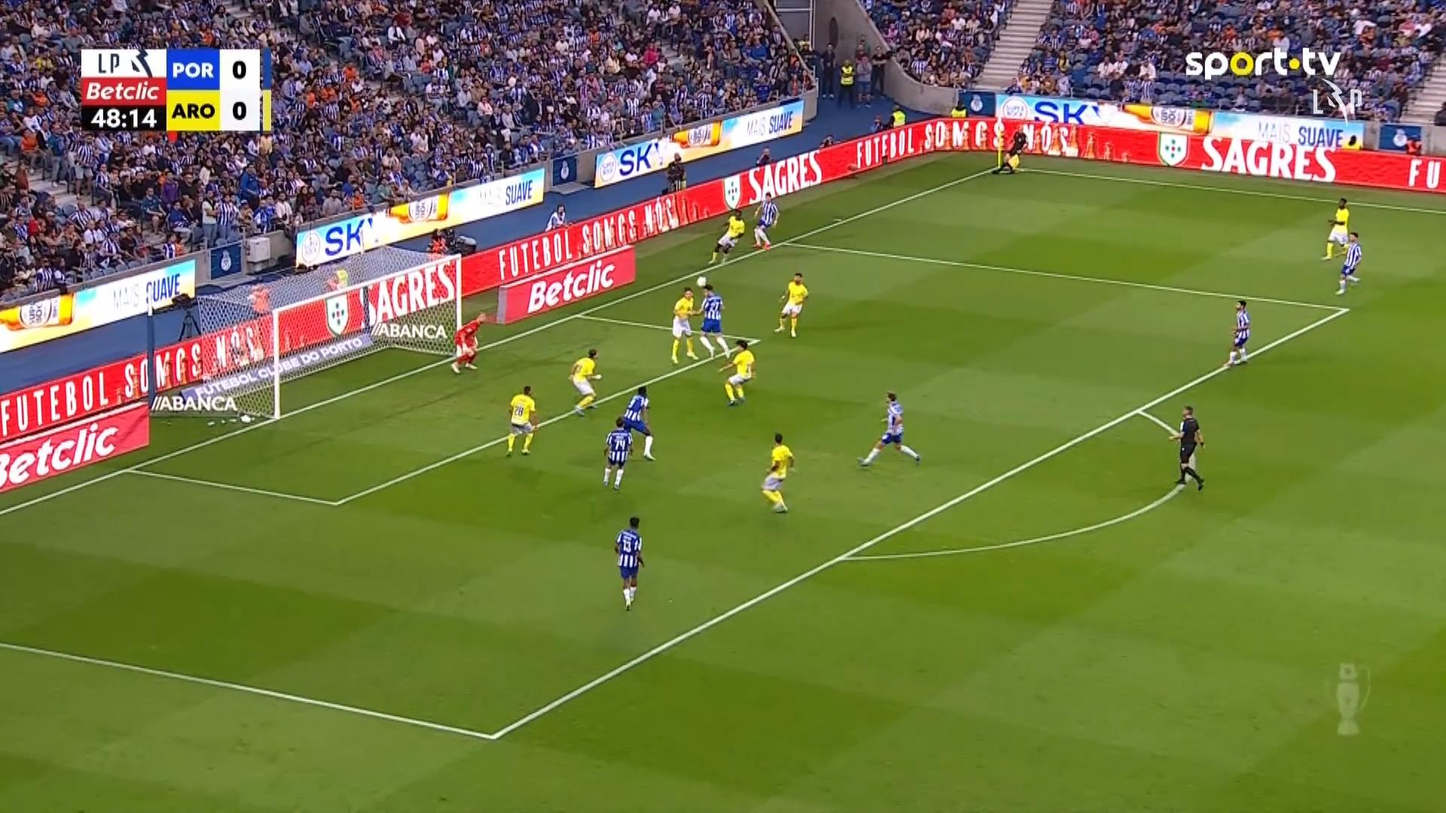ball: (696, 276, 706, 287)
goalkeeper: (450, 311, 485, 374)
player: (856, 391, 921, 467), (613, 516, 645, 611), (760, 432, 796, 513), (621, 385, 656, 461), (717, 338, 756, 406), (697, 283, 731, 359), (601, 416, 633, 490), (669, 288, 700, 364), (568, 348, 602, 416), (773, 272, 808, 337), (505, 385, 536, 456), (708, 207, 745, 264), (1321, 196, 1350, 260), (1335, 230, 1362, 294), (1225, 299, 1250, 368), (751, 190, 779, 251)
referee: (1167, 405, 1206, 490), (993, 127, 1027, 174)
